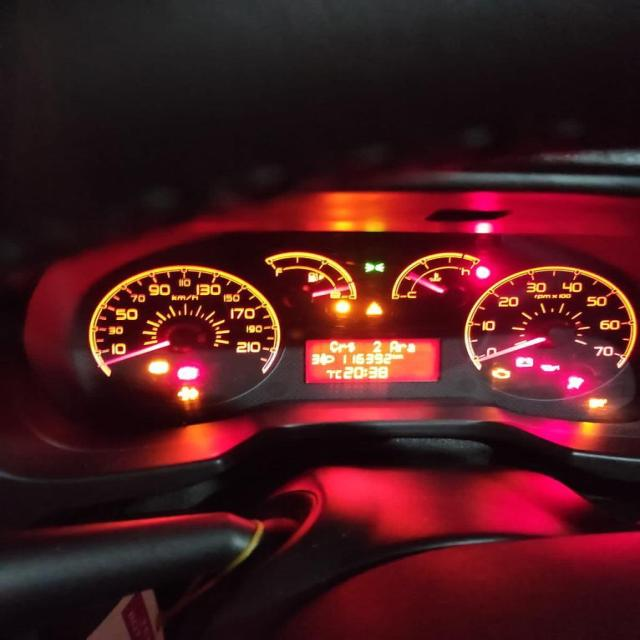odometer: (301, 336, 444, 386)
